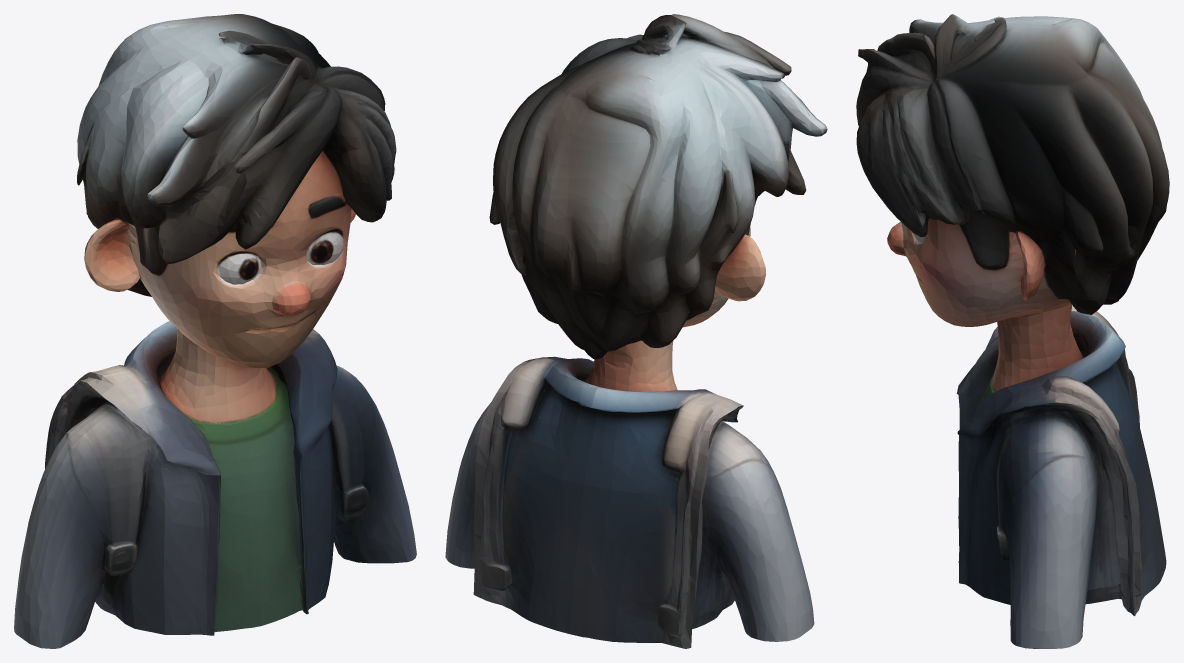
Rendered from garcon4.glb.
3 views of the same model, side by side, from view 1: azimuth 30°, elevation 25°; view 2: azimuth 150°, elevation 25°; view 3: azimuth 270°, elevation 25° (orthographic). The views are drawn at different scales.
Parts seen in each view (by area): view 1: world; view 2: world; view 3: world.
Boxes of the visible parts, left/top/right/bottom form: world: left=14, top=14, right=416, bottom=648; world: left=445, top=14, right=827, bottom=648; world: left=856, top=14, right=1169, bottom=648.
Size of the model in its own units: 0.6873 by 1 by 0.5228.
1 material, 1 textured.
